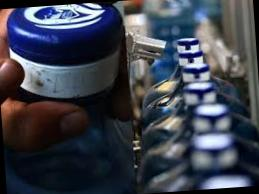Plastik: (5, 2, 125, 99)
